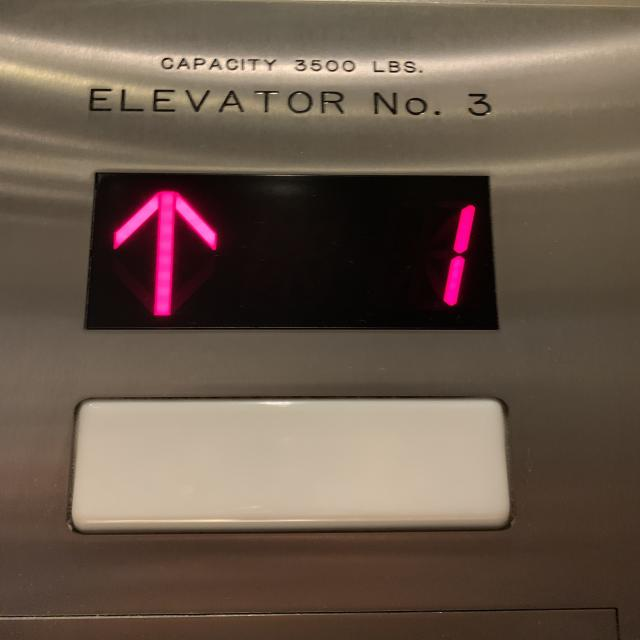box: (94, 167, 504, 340)
